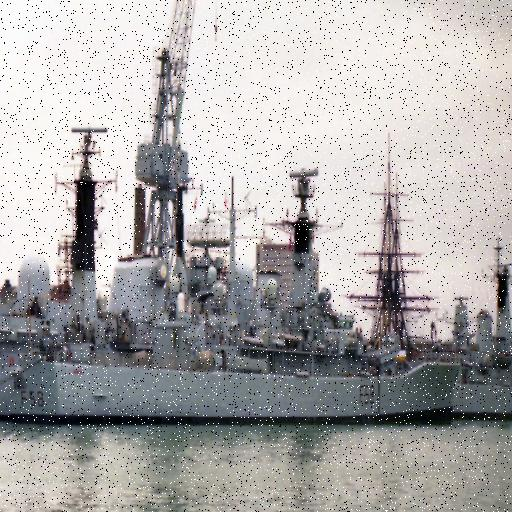Fragata: (1, 162, 467, 431)
